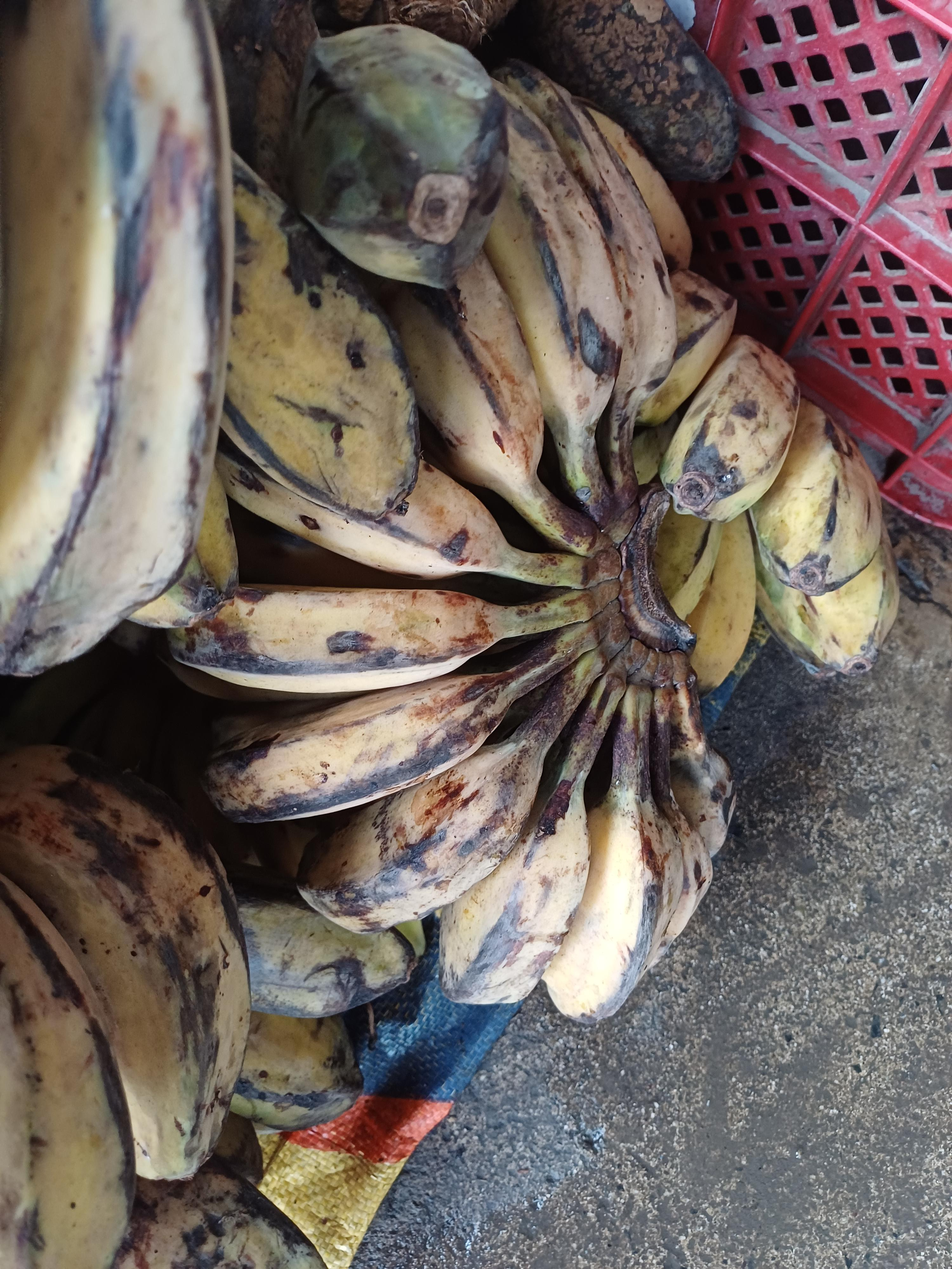ripe: (170, 61, 734, 1018), (0, 0, 420, 675), (595, 114, 899, 695), (0, 746, 323, 1269)
